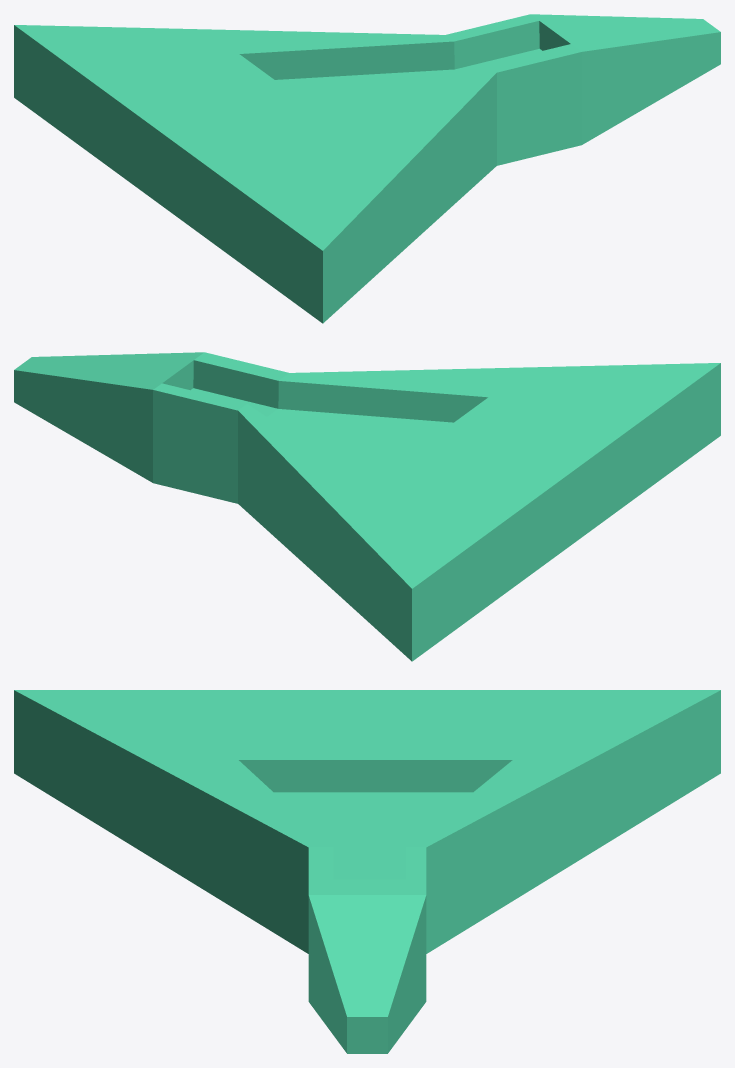
3 renders of one model, top to bottom at view 1: azimuth 30°, elevation 25°; view 2: azimuth 150°, elevation 25°; view 3: azimuth 270°, elevation 25°, orthographic. The views are drawn at different scales.
Parts seen in each view (by area): view 1: Cube; view 2: Cube; view 3: Cube.
Boxes of the visible parts, x1,y1,x2,y2 form: Cube: (14,14,720,323); Cube: (14,352,720,661); Cube: (14,690,720,1053).
Bounding box in the file's own units: 4.79 × 0.7862 × 4.72.
